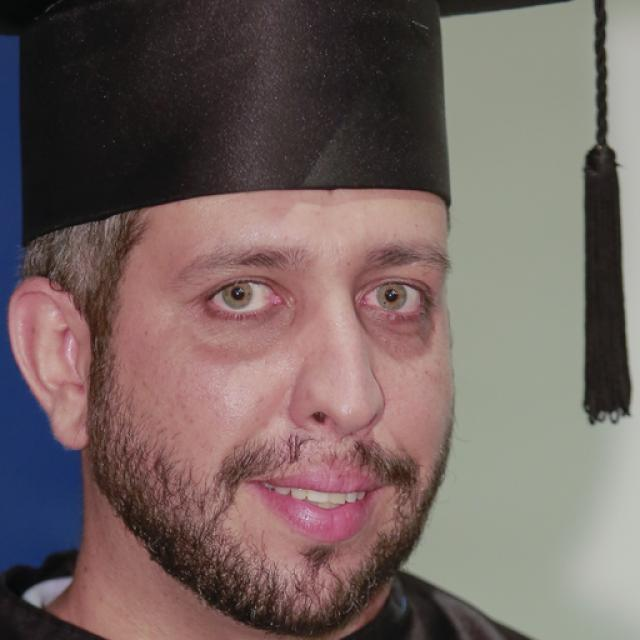Dark Circle: (199, 304, 294, 354), (356, 312, 434, 351)
